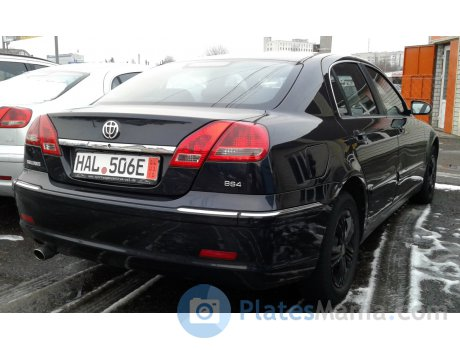License Plates: (72, 150, 146, 184)
